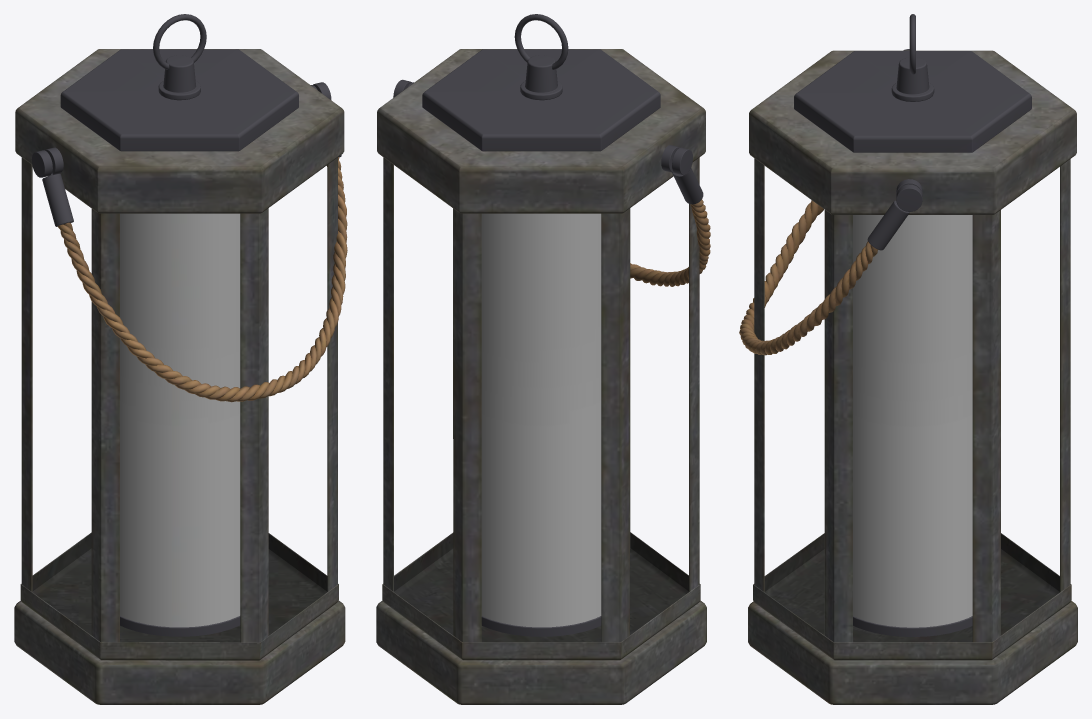
Rendered from lantern.glb.
3 renders of one model, left to right at view 1: azimuth 30°, elevation 25°; view 2: azimuth 150°, elevation 25°; view 3: azimuth 270°, elevation 25°, orthographic.
Parts seen in each view (by area): view 1: RootNode; view 2: RootNode; view 3: RootNode.
Boxes of the visible parts, x1,y1,x2,y2 form: RootNode: (14, 14, 347, 704); RootNode: (376, 14, 710, 704); RootNode: (739, 14, 1077, 704).
Bounding box in the file's own units: 0.1573 × 0.3306 × 0.1613.
1 material, 1 textured.
